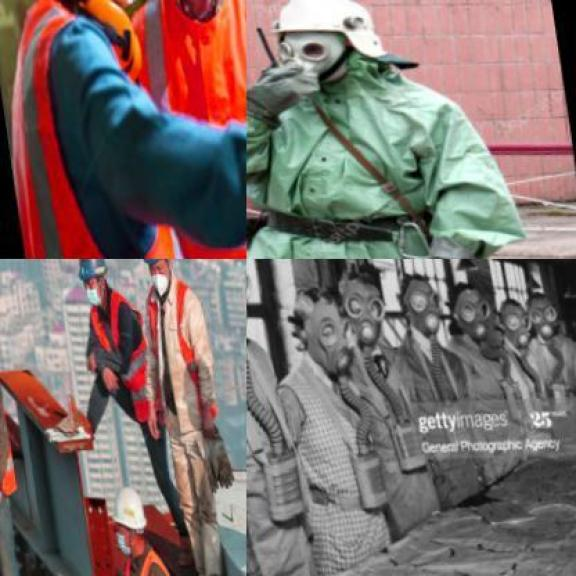safety_vest: (246, 26, 548, 258), (0, 0, 212, 258), (130, 0, 245, 258), (135, 267, 218, 417), (82, 276, 158, 430), (112, 534, 186, 574), (0, 344, 19, 495)
